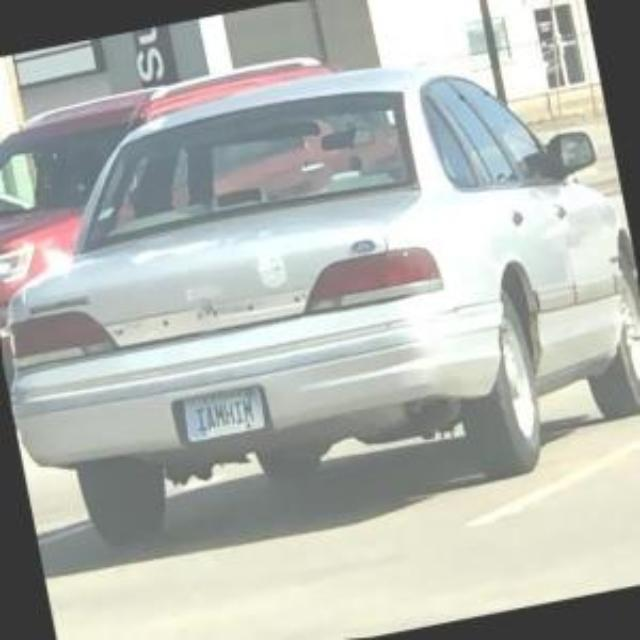License Plate: (180, 382, 266, 443)
